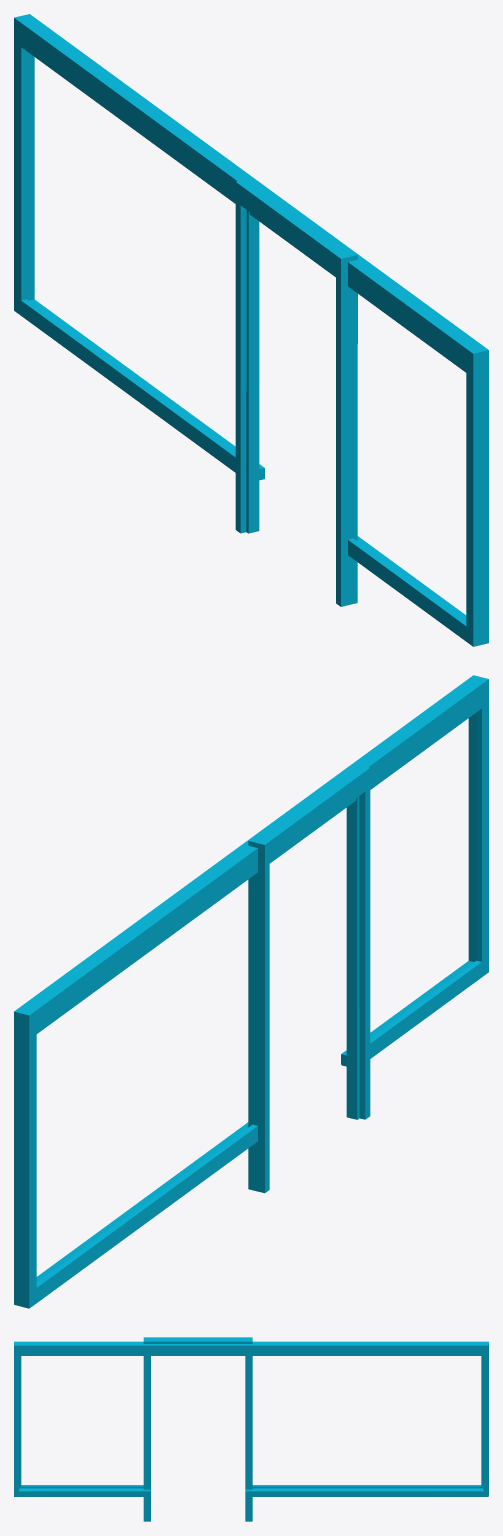
The model's file is Warehouse_01_Window_S_01.fbx.
The picture shows the model from 3 angles, top to bottom: view 1: azimuth 30°, elevation 25°; view 2: azimuth 150°, elevation 25°; view 3: azimuth 270°, elevation 25°; orthographic projection. The views are drawn at different scales.
Parts seen in each view (by area): view 1: Warehouse_01_Window_S_01; view 2: Warehouse_01_Window_S_01; view 3: Warehouse_01_Window_S_01.
Boxes of the visible parts, left/top/right/bottom form: Warehouse_01_Window_S_01: left=14, top=14, right=488, bottom=646; Warehouse_01_Window_S_01: left=14, top=675, right=488, bottom=1308; Warehouse_01_Window_S_01: left=14, top=1337, right=488, bottom=1521.
Bounding box in the file's own units: 15.74 × 233 × 558.
